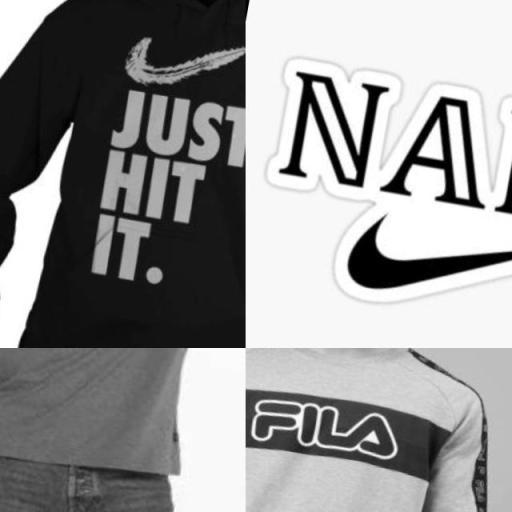Fila: (246, 376, 410, 470)
Nike: (245, 0, 512, 348), (95, 2, 246, 113)
